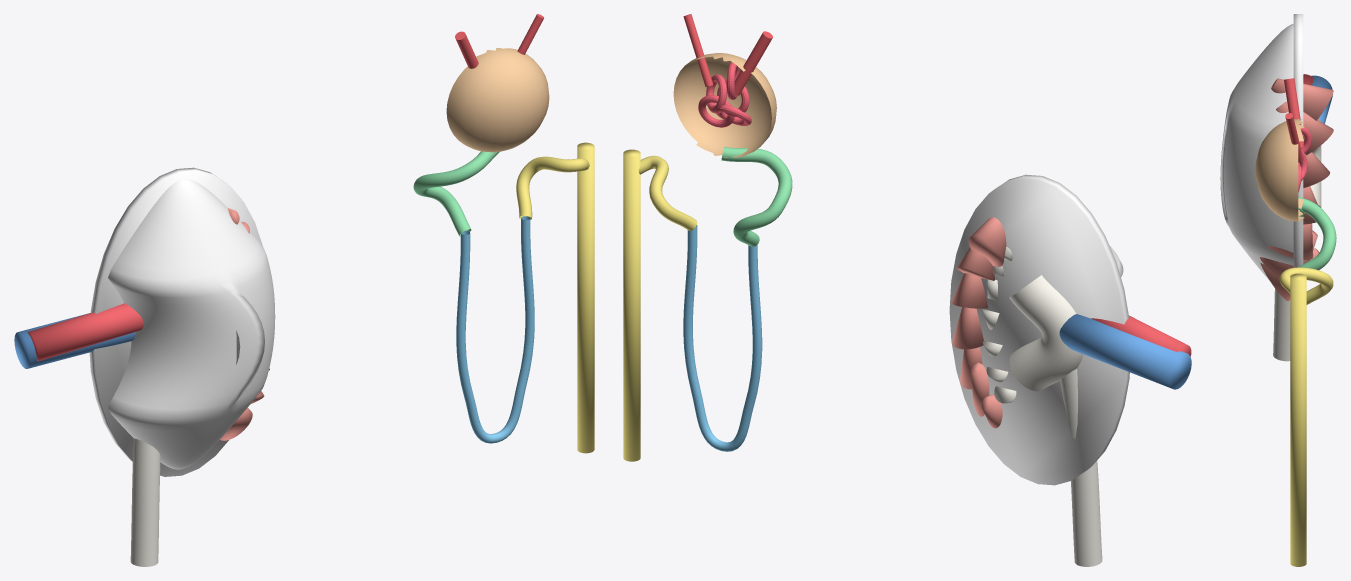
The model's file is kidney_realistic.glb.
The picture shows the model from 3 angles, left to right: view 1: azimuth 30°, elevation 25°; view 2: azimuth 150°, elevation 25°; view 3: azimuth 270°, elevation 25°; orthographic projection. The views are drawn at different scales.
Parts seen in each view (by area): view 1: Renal_Capsule, Bowmans_Capsule, Renal_Cortex_Cutface, Medullary_Collecting_Duct, Loop_of_Henle, Ureter, Renal_Artery, Proximal_Convoluted_Tubule_PCT, Distal_Convoluted_Tubule_DCT, Renal_Vein; view 2: Renal_Cortex_Cutface, Bowmans_Capsule, Medullary_Collecting_Duct, Renal_Pelvis, Renal_Vein, Loop_of_Henle, Ureter, Proximal_Convoluted_Tubule_PCT, Distal_Convoluted_Tubule_DCT, Renal_Pyramid_7, Renal_Artery, Renal_Pyramid_4 (+4 smaller); view 3: Renal_Capsule, Medullary_Collecting_Duct, Bowmans_Capsule, Renal_Cortex_Cutface, Proximal_Convoluted_Tubule_PCT, Ureter, Distal_Convoluted_Tubule_DCT, Renal_Pyramid_7, Renal_Pyramid_6, Renal_Pyramid_5, Renal_Pyramid_3, Afferent_Arteriole (+7 smaller).
Part boxes in pixels (x1=…): Renal_Capsule: x1=108, y1=179, x2=275, y2=469; Bowmans_Capsule: x1=446, y1=48, x2=549, y2=152; Renal_Cortex_Cutface: x1=89, y1=167, x2=262, y2=476; Medullary_Collecting_Duct: x1=577, y1=142, x2=594, y2=453; Loop_of_Henle: x1=456, y1=216, x2=534, y2=443; Ureter: x1=130, y1=438, x2=160, y2=566; Renal_Artery: x1=27, y1=303, x2=143, y2=361; Proximal_Convoluted_Tubule_PCT: x1=413, y1=151, x2=499, y2=236; Distal_Convoluted_Tubule_DCT: x1=516, y1=156, x2=589, y2=219; Renal_Vein: x1=14, y1=313, x2=135, y2=368; Renal_Cortex_Cutface: x1=949, y1=174, x2=1129, y2=485; Bowmans_Capsule: x1=673, y1=53, x2=776, y2=157; Medullary_Collecting_Duct: x1=623, y1=149, x2=640, y2=461; Renal_Pelvis: x1=1009, y1=275, x2=1083, y2=391; Renal_Vein: x1=1059, y1=314, x2=1191, y2=389; Loop_of_Henle: x1=683, y1=225, x2=762, y2=451; Ureter: x1=1060, y1=368, x2=1102, y2=566; Proximal_Convoluted_Tubule_PCT: x1=721, y1=147, x2=792, y2=246; Distal_Convoluted_Tubule_DCT: x1=638, y1=155, x2=697, y2=230; Renal_Pyramid_7: x1=968, y1=217, x2=1006, y2=266; Renal_Artery: x1=1091, y1=315, x2=1191, y2=356; Renal_Pyramid_4: x1=952, y1=307, x2=983, y2=349; Renal_Capsule: x1=1220, y1=23, x2=1293, y2=280; Medullary_Collecting_Duct: x1=1290, y1=273, x2=1306, y2=566; Bowmans_Capsule: x1=1255, y1=119, x2=1304, y2=221; Renal_Cortex_Cutface: x1=1293, y1=14, x2=1303, y2=267; Proximal_Convoluted_Tubule_PCT: x1=1298, y1=197, x2=1336, y2=270; Ureter: x1=1273, y1=288, x2=1290, y2=361; Distal_Convoluted_Tubule_DCT: x1=1279, y1=267, x2=1333, y2=304; Renal_Pyramid_7: x1=1271, y1=78, x2=1333, y2=120; Renal_Pyramid_6: x1=1276, y1=102, x2=1333, y2=155; Renal_Pyramid_5: x1=1303, y1=152, x2=1329, y2=187; Renal_Pyramid_3: x1=1266, y1=223, x2=1313, y2=259; Afferent_Arteriole: x1=1284, y1=78, x2=1303, y2=147.
Size of the model in its own units: 7.5 by 5.73 by 1.41.
